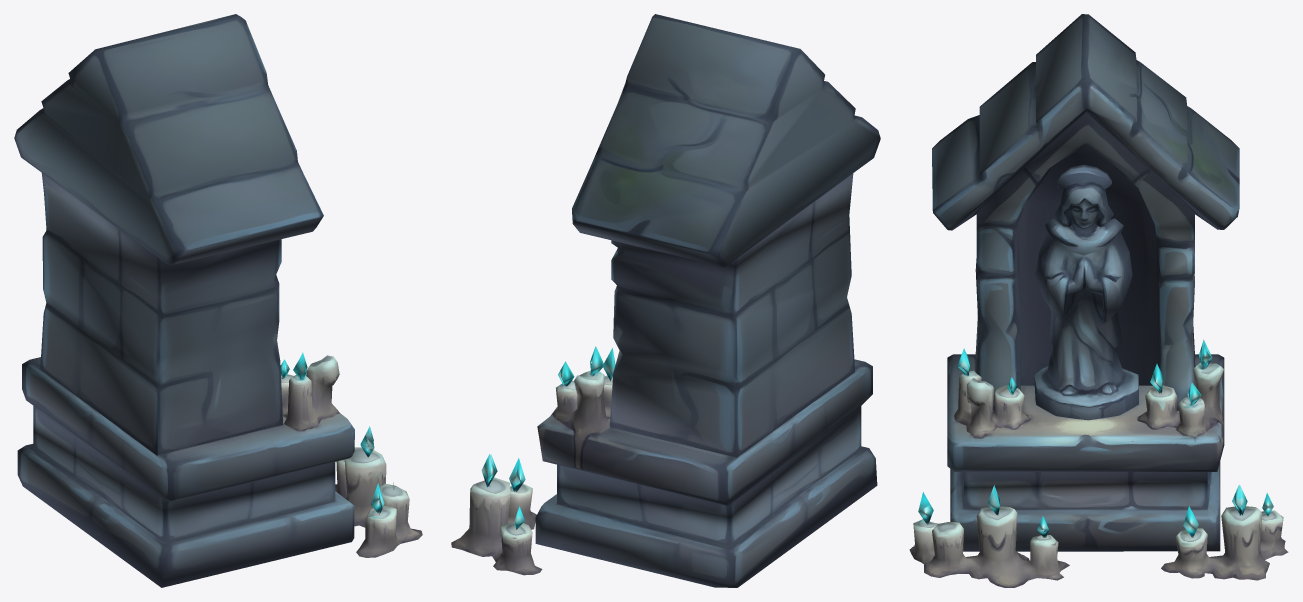
The model's file is map_shrine_tripo.glb.
3 renders of one model, left to right at view 1: azimuth 30°, elevation 25°; view 2: azimuth 150°, elevation 25°; view 3: azimuth 270°, elevation 25°, orthographic. The views are drawn at different scales.
Visible parts, largest first — view 1: tripo_node_1032b31b-72a8-4155-8493-c956273dcc99; view 2: tripo_node_1032b31b-72a8-4155-8493-c956273dcc99; view 3: tripo_node_1032b31b-72a8-4155-8493-c956273dcc99.
Boxes of the visible parts, x1,y1,x2,y2 form: tripo_node_1032b31b-72a8-4155-8493-c956273dcc99: [14, 14, 422, 587]; tripo_node_1032b31b-72a8-4155-8493-c956273dcc99: [451, 14, 880, 587]; tripo_node_1032b31b-72a8-4155-8493-c956273dcc99: [909, 14, 1288, 587].
Bounding box in the file's own units: 0.5957 × 0.998 × 0.7598.
1 material, 1 textured.
